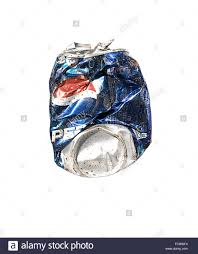can: (44, 35, 160, 194)
